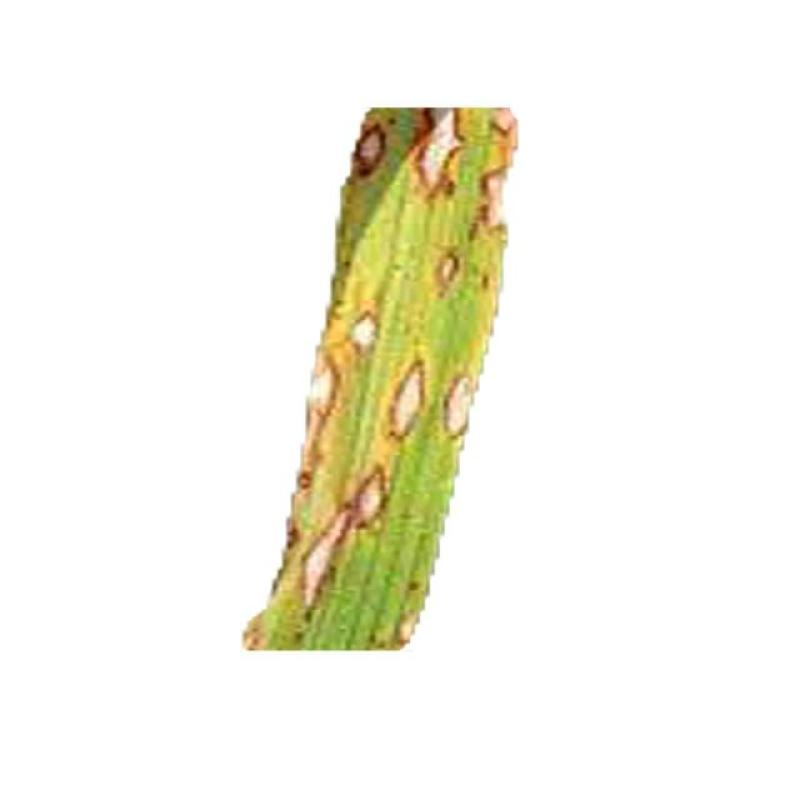Leaf_Blast: (298, 360, 419, 634), (292, 297, 388, 492), (346, 315, 432, 467), (461, 136, 535, 246), (378, 338, 444, 457), (432, 340, 492, 454), (413, 114, 485, 198), (342, 114, 402, 204), (420, 238, 474, 312)
